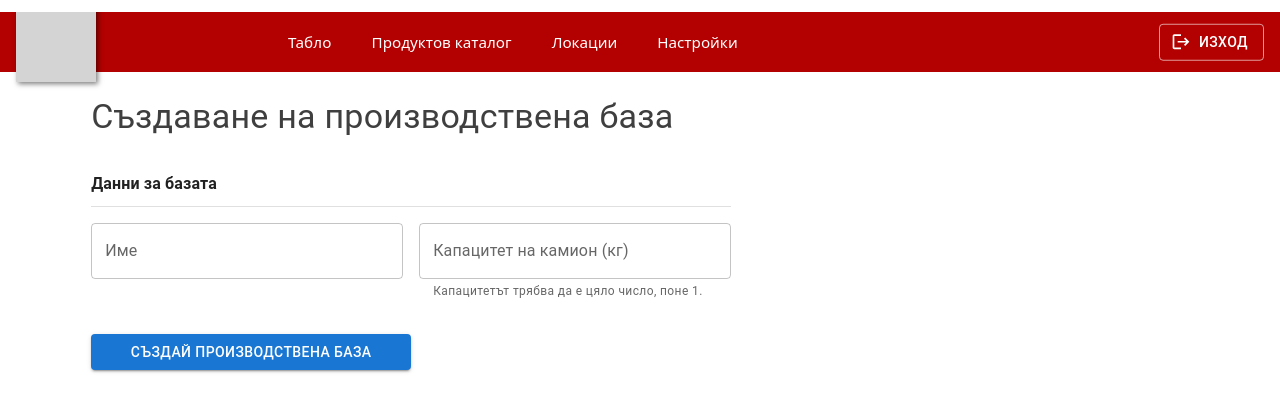
Create source location page › surfaces a duplicate-name error when the API responds with 409
Type "София" into the field labelled "Име". click: (247, 251)
box: x1=91 y1=223 x2=403 y2=279
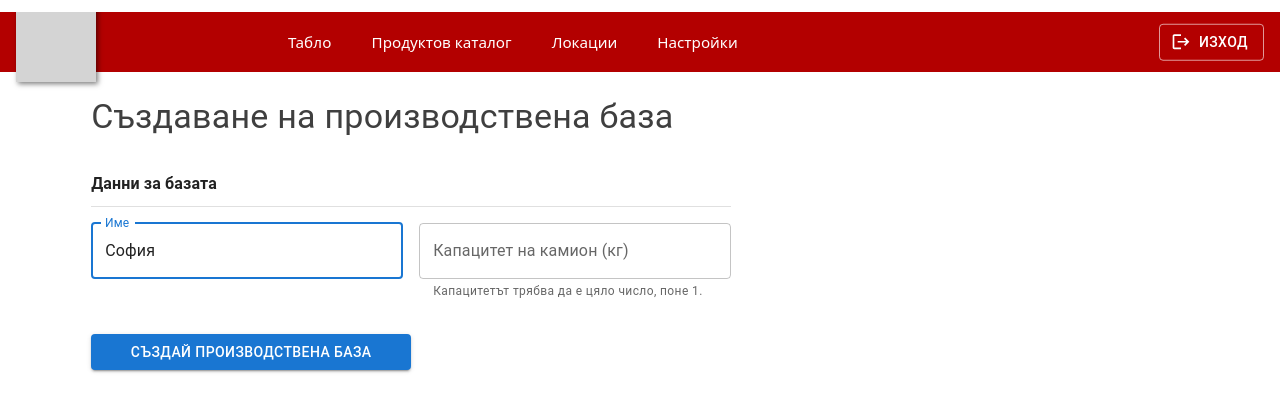
Type "20000" into the number field labelled "Капацитет на камион (кг)". click: (575, 251)
box: x1=419 y1=223 x2=731 y2=279
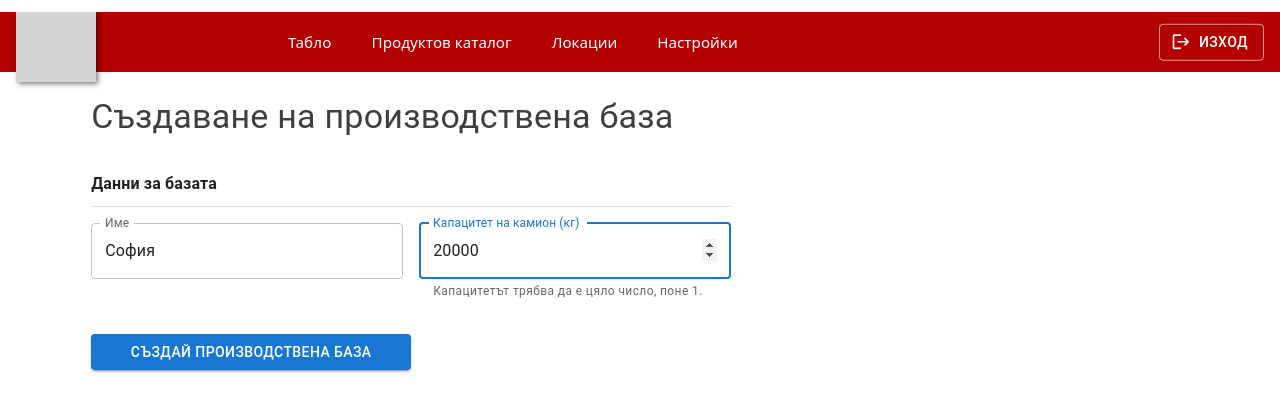
Click the button "Създай производствена база". click: (251, 352)
box: x1=91 y1=334 x2=411 y2=370
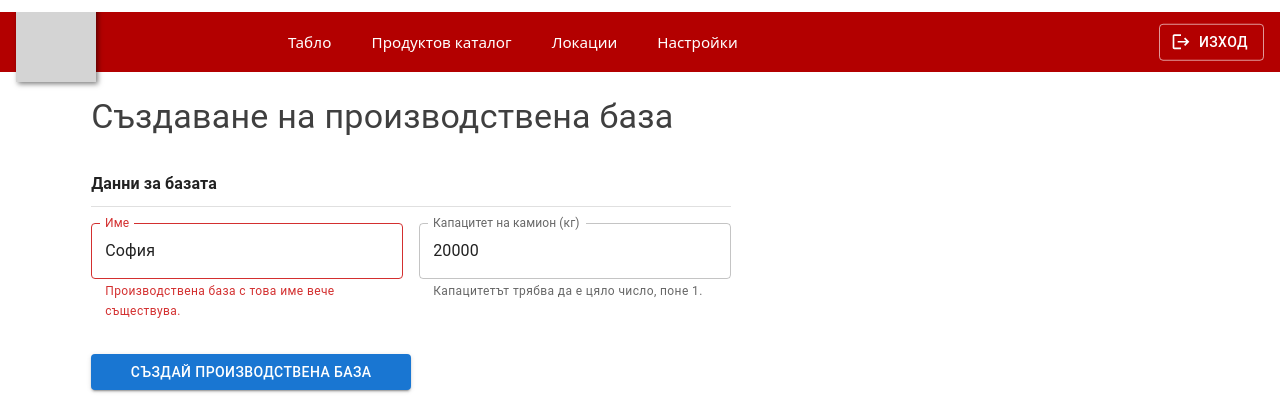
expect the text "Производствена база с това име вече съществува." is shown: met, box x1=105 y1=284 x2=335 y2=318
